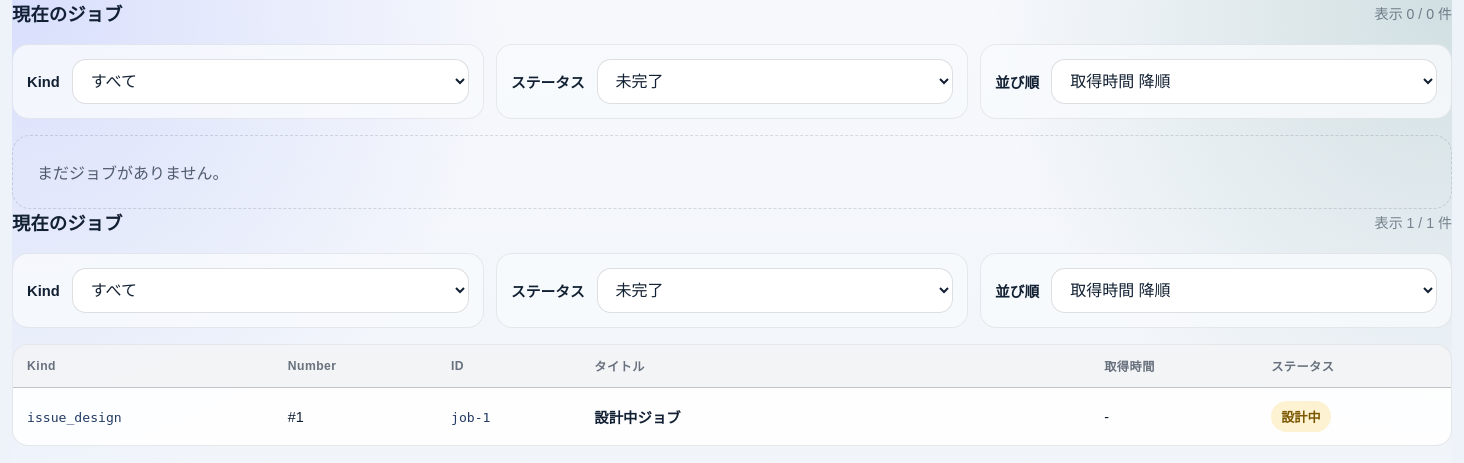
Test: JobListPanel › shows a dedicated empty state when no jobs match filters and keeps the no-data state distinct
Select "PR レビュー" in the 2nd dropdown named "Kindフィルター": (270, 290) x1=72 y1=268 x2=469 y2=313
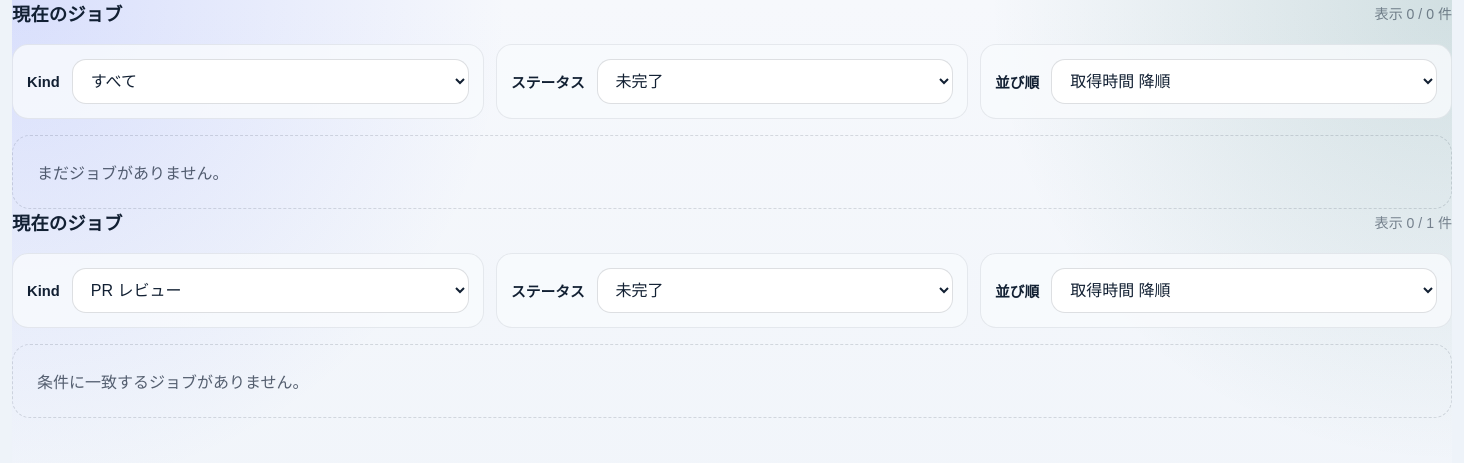
Expected: the text "まだジョブがありません。" is not shown
Result: the text "条件に一致するジョブがありません。" is shown at x1=12 y1=344 x2=1452 y2=418
